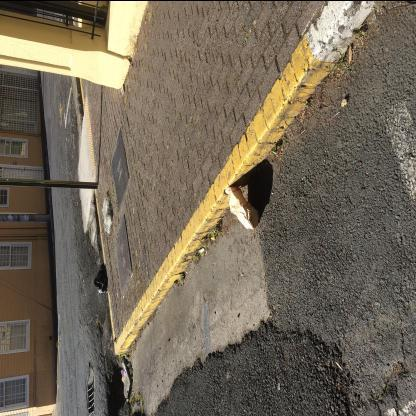kagit: (227, 186, 261, 230)
karton: (123, 367, 128, 384), (128, 363, 134, 377)
plastik: (96, 263, 110, 295)
